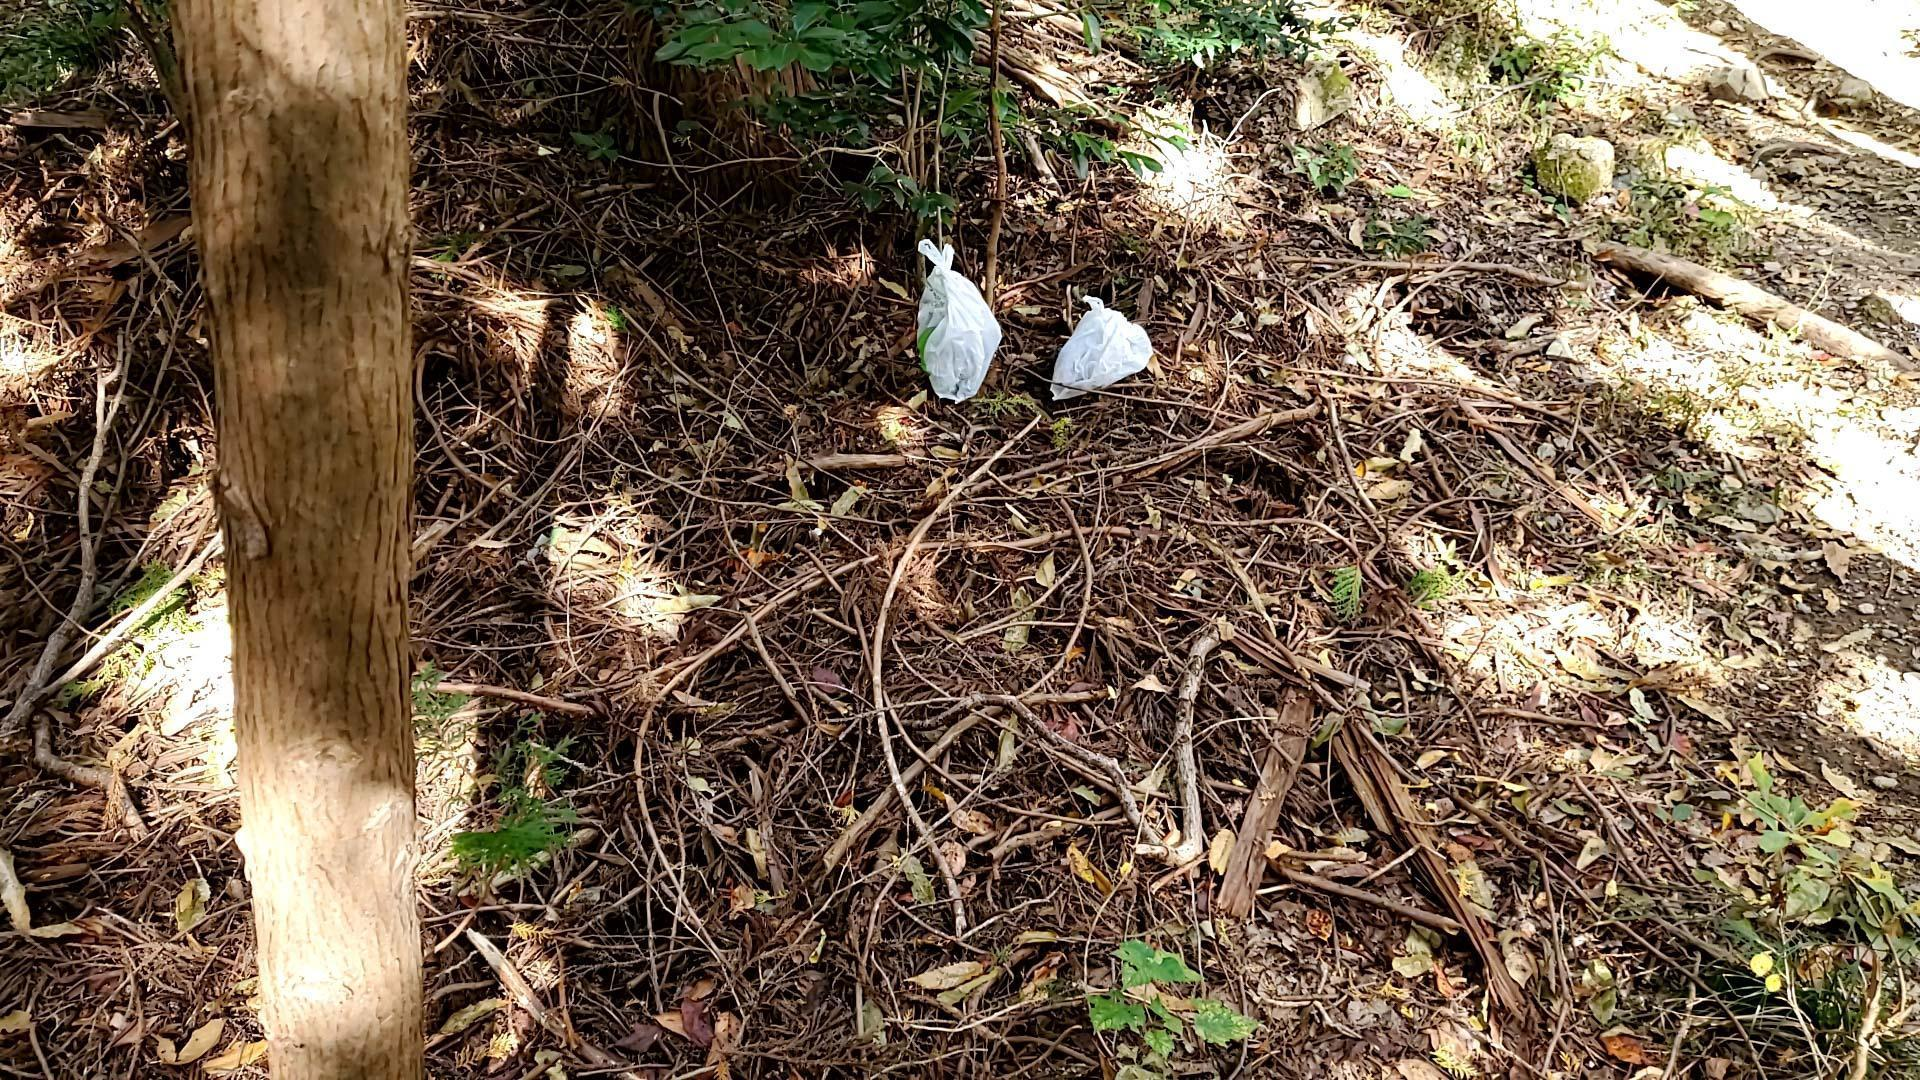white_bag: (903, 233, 1005, 409), (1044, 293, 1163, 411)
